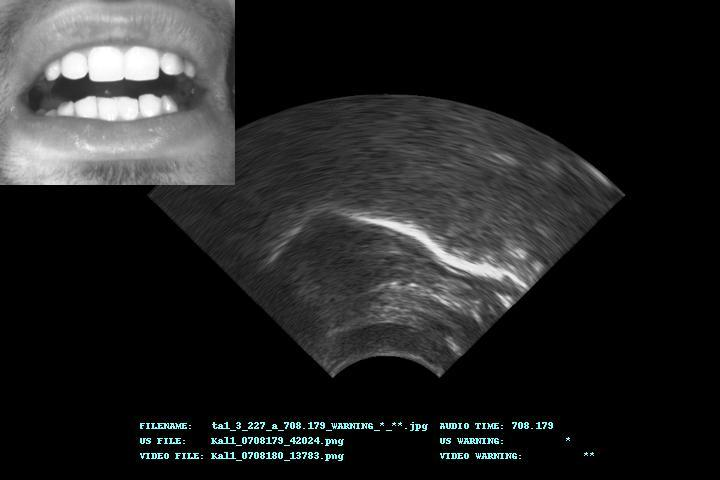-a-: (153, 97, 624, 376)
